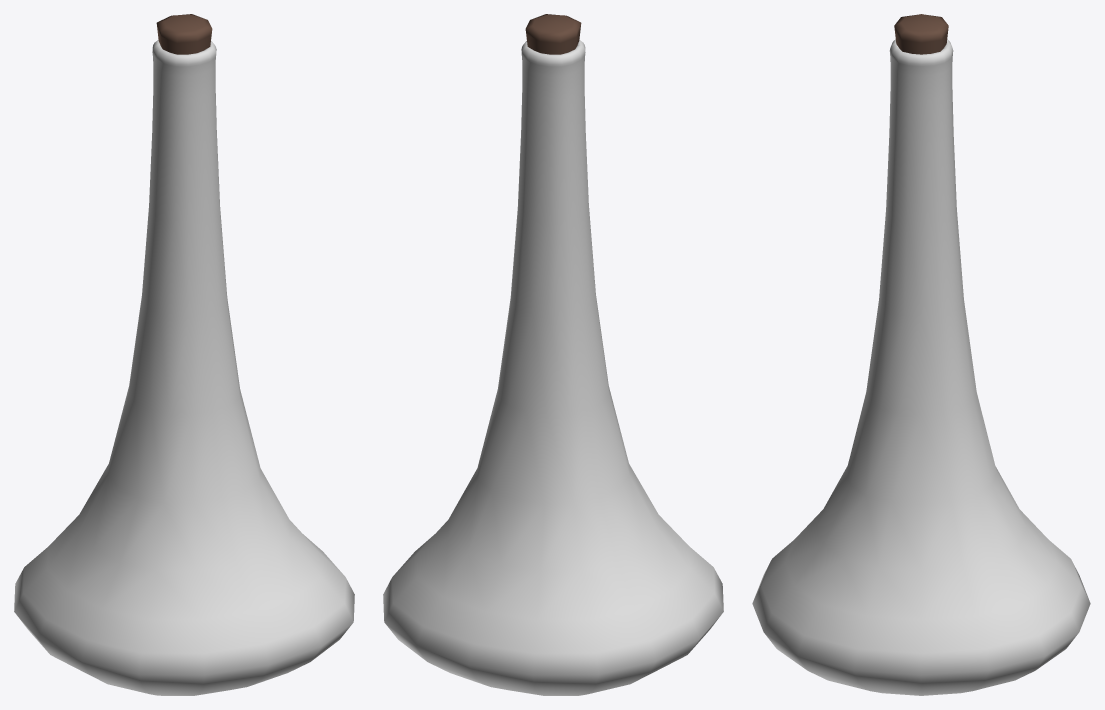
The model's file is Potion7_Filled.glb.
3 renders of one model, left to right at view 1: azimuth 30°, elevation 25°; view 2: azimuth 150°, elevation 25°; view 3: azimuth 270°, elevation 25°, orthographic.
Parts seen in each view (by area): view 1: Potion7_Filled; view 2: Potion7_Filled; view 3: Potion7_Filled.
Boxes of the visible parts, <box> form: Potion7_Filled: <box>14,14,354,695</box>; Potion7_Filled: <box>383,14,723,695</box>; Potion7_Filled: <box>752,14,1090,695</box>.
Bounding box in the file's own units: 0.7035 × 1.51 × 0.7035.
